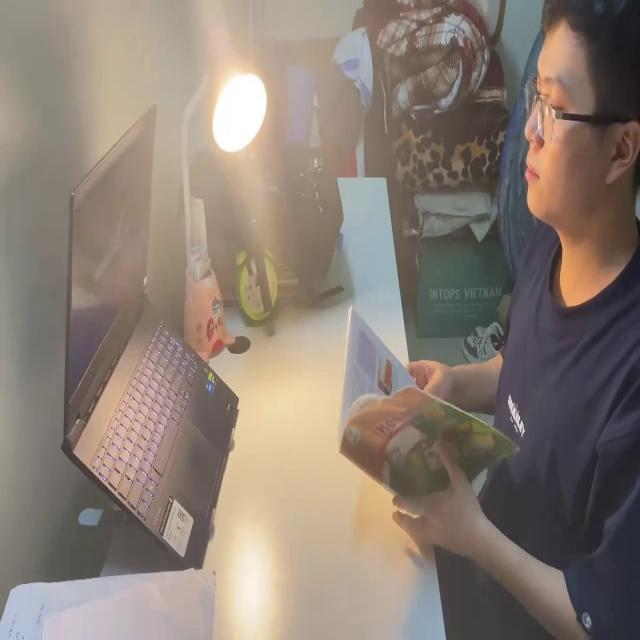book: (336, 292, 520, 523), (1, 574, 218, 633)
laptop: (55, 100, 238, 573)
student: (382, 0, 640, 640)
